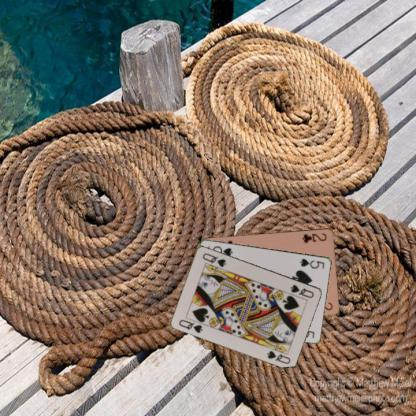2c: (299, 230, 328, 244)
5s: (297, 256, 326, 270)
Qs: (177, 316, 204, 335), (288, 282, 316, 300)
